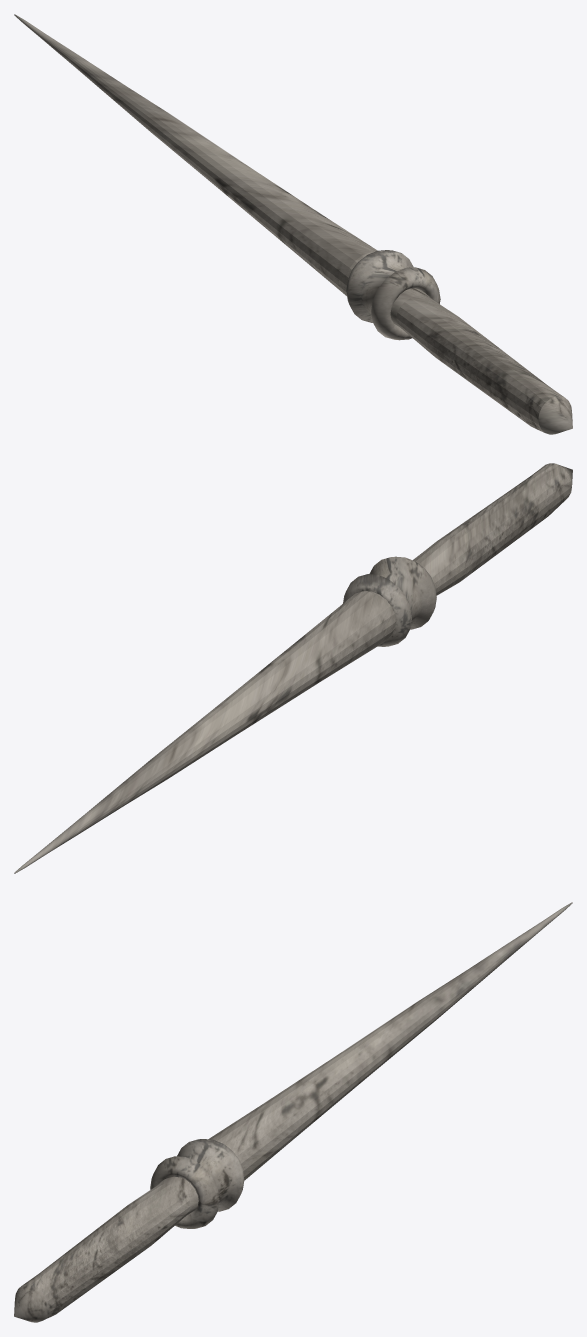
File: wand1.glb
3 renders of one model, top to bottom at view 1: azimuth 30°, elevation 25°; view 2: azimuth 150°, elevation 25°; view 3: azimuth 330°, elevation 25°, orthographic.
Parts seen in each view (by area): view 1: pCylinder4; view 2: pCylinder4; view 3: pCylinder4.
Boxes of the visible parts, <box> form: pCylinder4: <box>14,14,572,434</box>; pCylinder4: <box>14,463,572,873</box>; pCylinder4: <box>14,902,572,1322</box>.
Size of the model in its own units: 0.9938 by 0.9944 by 14.18.
Materials: 1 (1 with a texture image).
